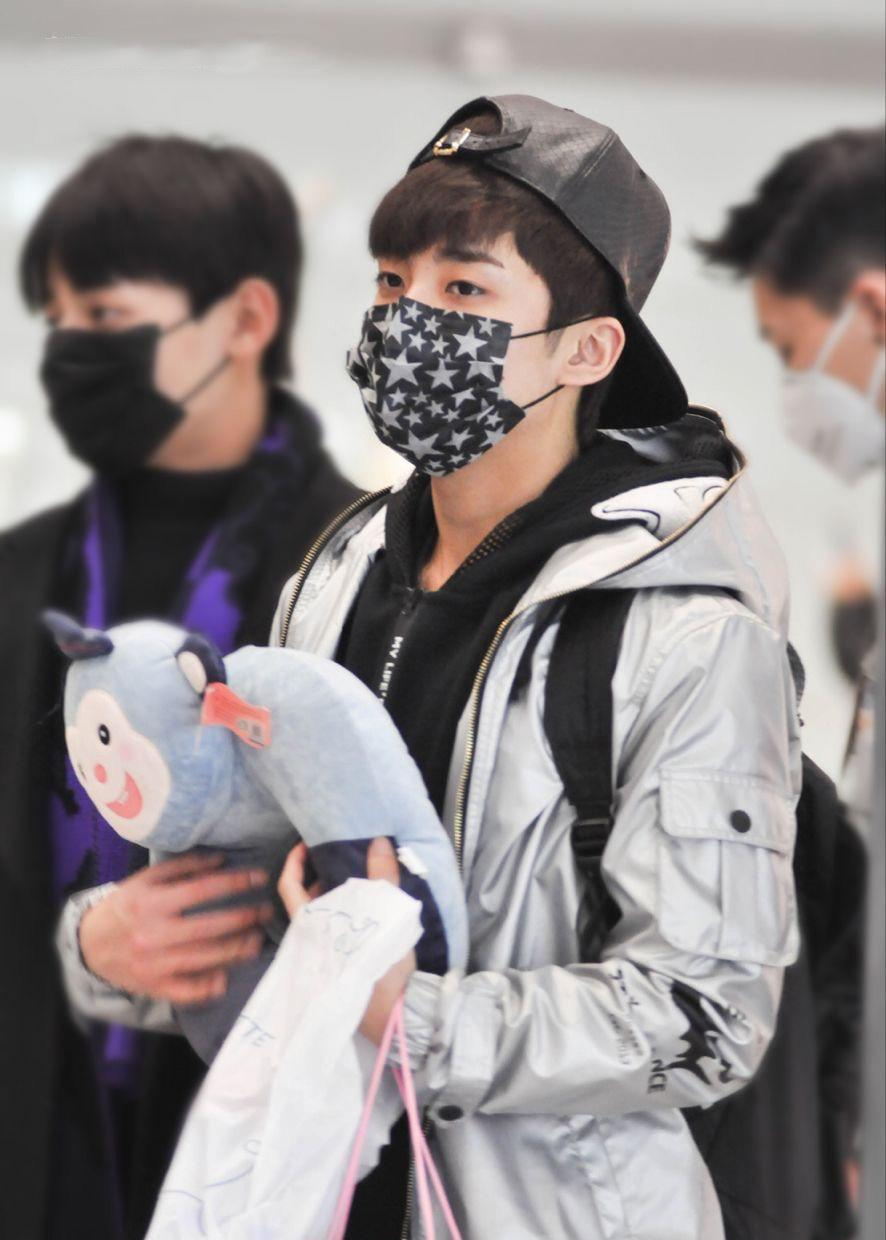OK: (354, 236, 570, 452), (48, 278, 246, 478), (752, 281, 886, 488)
